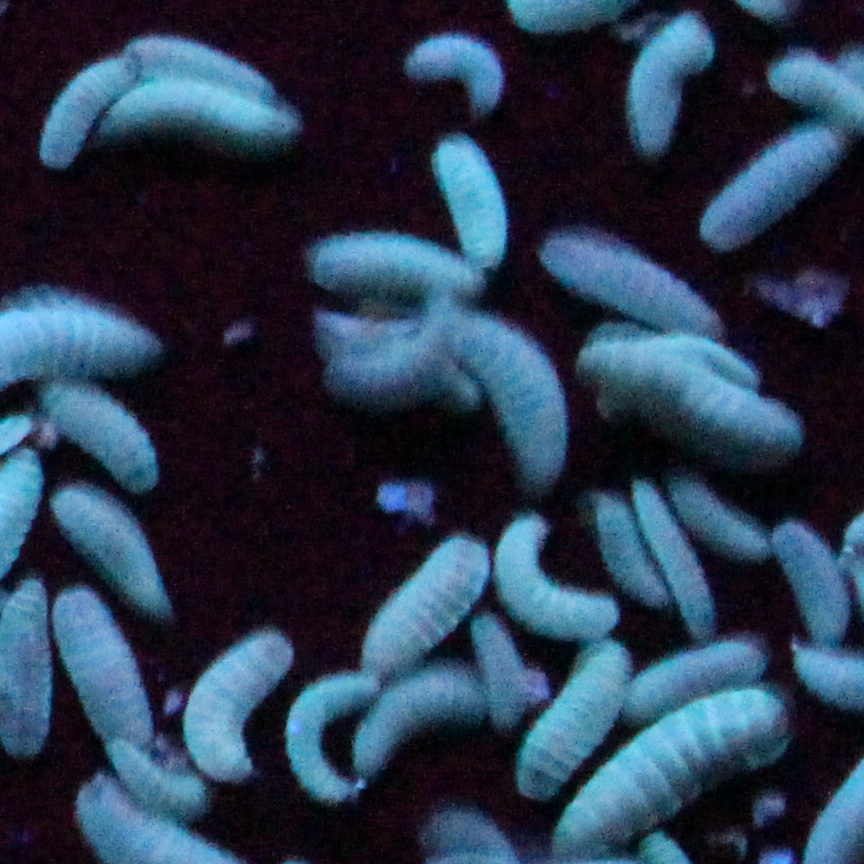larve: (559, 691, 791, 860), (584, 331, 798, 456), (437, 315, 566, 482), (702, 121, 851, 256), (545, 229, 725, 336), (360, 534, 491, 674), (50, 474, 176, 619), (516, 640, 633, 796), (50, 585, 156, 750), (184, 630, 293, 784), (490, 514, 617, 640), (39, 380, 162, 496), (309, 217, 484, 297), (631, 474, 714, 640), (360, 668, 484, 779), (100, 82, 304, 148), (625, 15, 717, 148), (285, 671, 376, 805), (117, 31, 280, 103), (627, 642, 767, 725), (37, 56, 139, 168), (429, 138, 511, 266), (765, 519, 848, 642), (670, 471, 773, 562), (107, 739, 208, 825), (596, 493, 671, 605), (405, 32, 505, 111), (470, 611, 530, 730), (329, 350, 441, 403), (313, 307, 417, 346), (678, 338, 756, 385)
